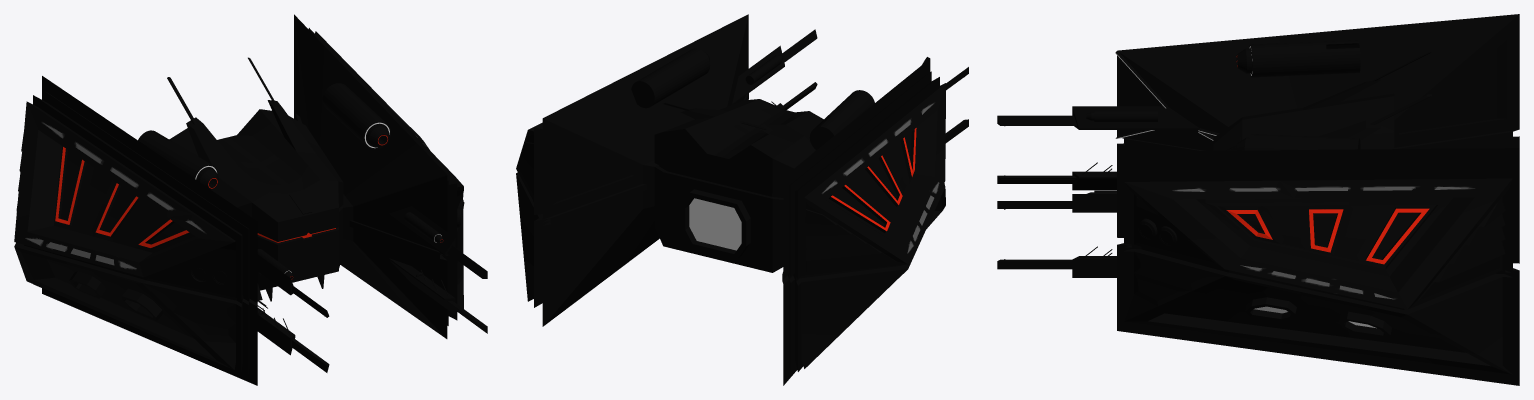
Rendered from Starship.fbx.
The picture shows the model from 3 angles, left to right: view 1: azimuth 30°, elevation 25°; view 2: azimuth 150°, elevation 25°; view 3: azimuth 270°, elevation 25°; orthographic projection. The views are drawn at different scales.
Visible parts, largest first — view 1: Bake; view 2: Bake; view 3: Bake.
Boxes of the visible parts, bbox=[...] form: Bake: bbox=[14, 14, 487, 385]; Bake: bbox=[516, 14, 968, 385]; Bake: bbox=[997, 14, 1519, 385].
Bounding box in the file's own units: 9.52 × 4.99 × 9.63.
